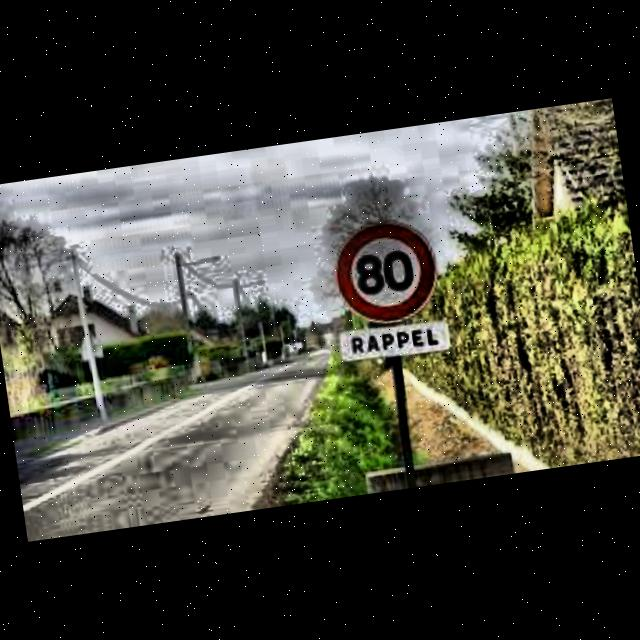speed_80: (332, 217, 442, 325)
